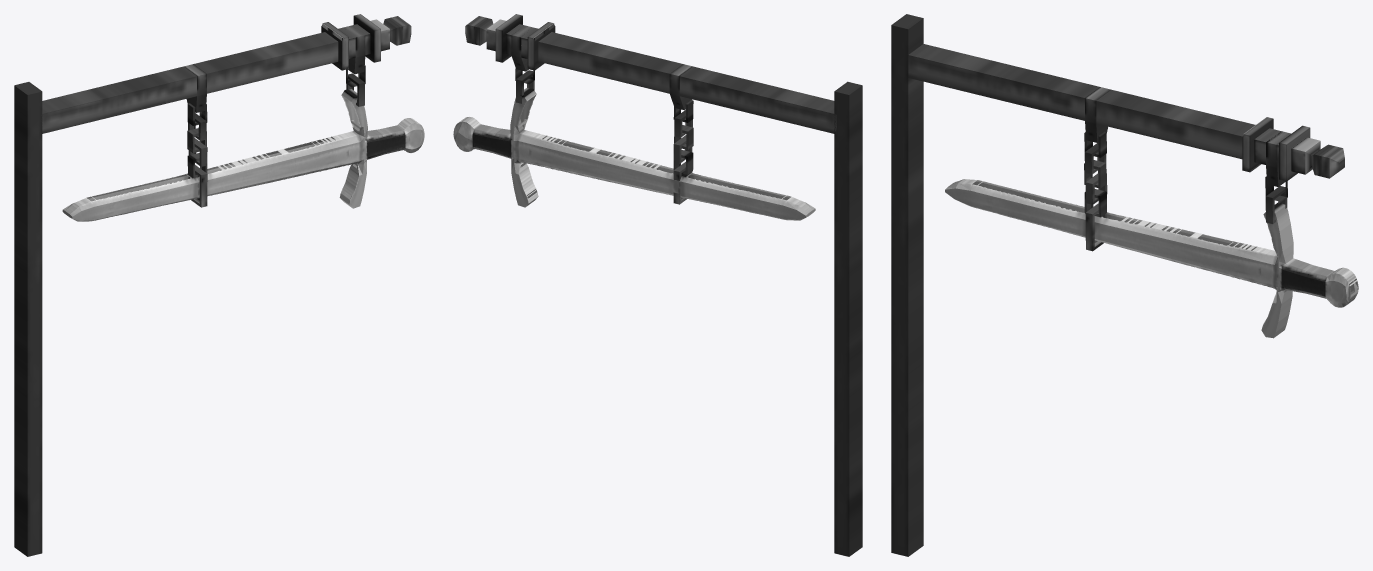
The model's file is sign_360x06.obj.
The picture shows the model from 3 angles, left to right: view 1: azimuth 30°, elevation 25°; view 2: azimuth 150°, elevation 25°; view 3: azimuth 330°, elevation 25°; orthographic projection. The views are drawn at different scales.
Parts seen in each view (by area): view 1: Sign_360x6; view 2: Sign_360x6; view 3: Sign_360x6.
Part boxes in pixels (left/top/right/bottom): Sign_360x6: left=14, top=14, right=424, bottom=556; Sign_360x6: left=453, top=14, right=862, bottom=556; Sign_360x6: left=891, top=14, right=1358, bottom=556.
Bounding box in the file's own units: 3.57 × 3.94 × 0.3169.
